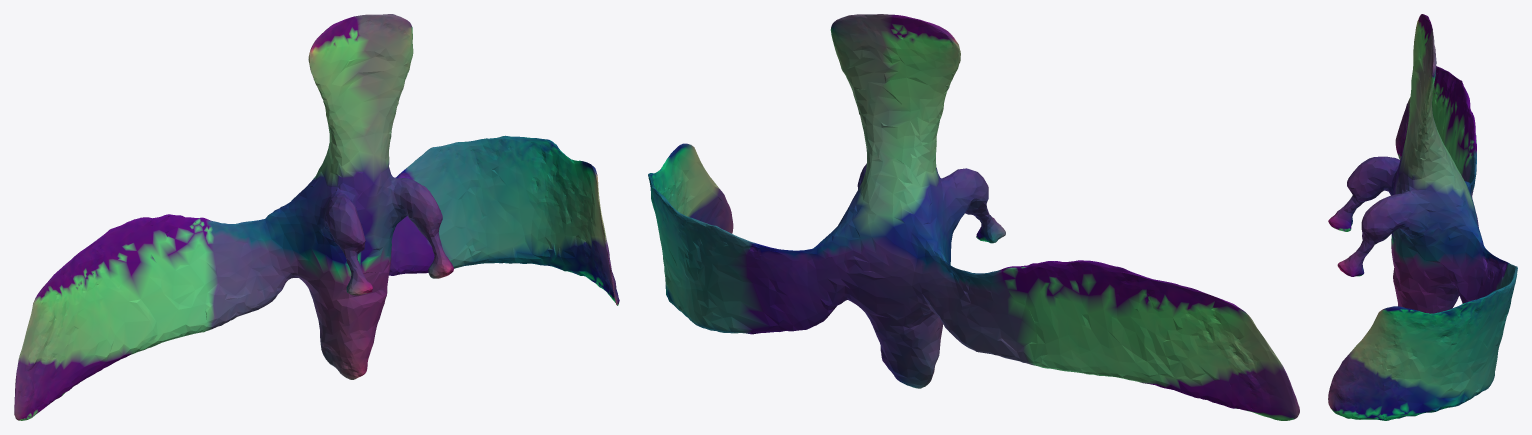
The model's file is bird2-3.off.obj.
The picture shows the model from 3 angles, left to right: view 1: azimuth 30°, elevation 25°; view 2: azimuth 150°, elevation 25°; view 3: azimuth 270°, elevation 25°; orthographic projection. The views are drawn at different scales.
Size of the model in its own units: 1.43 by 0.8275 by 0.4245.
